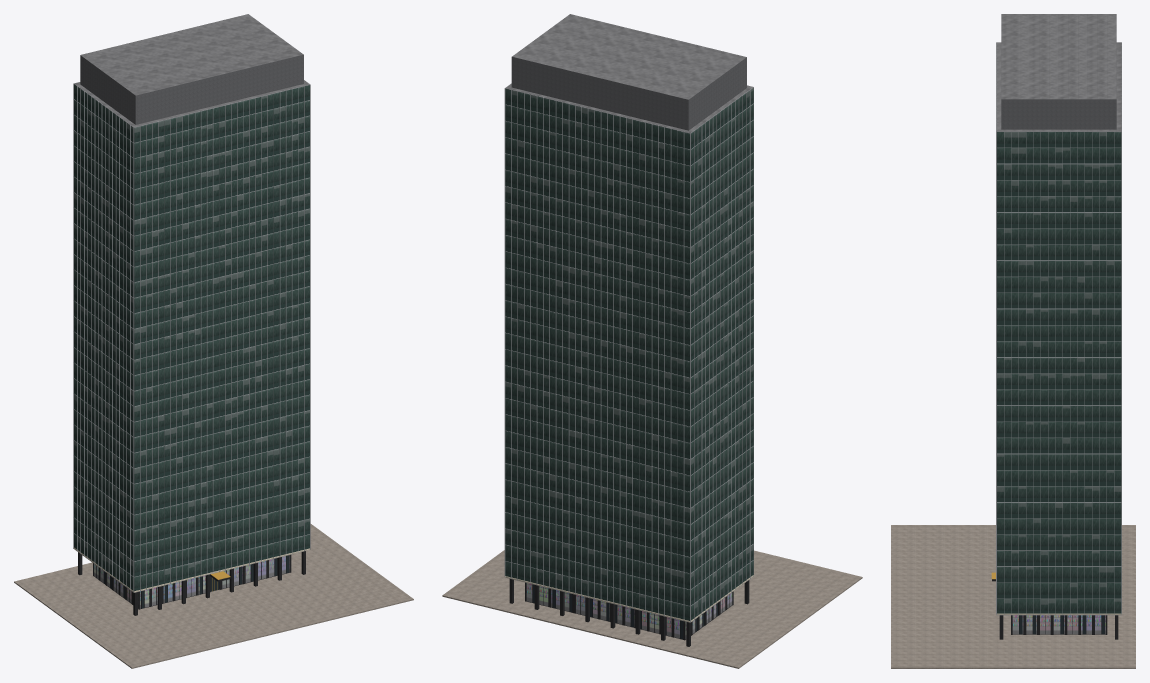
Rendered from hd16_international_style_slab.gltf.
3 views of the same model, side by side, from view 1: azimuth 30°, elevation 25°; view 2: azimuth 150°, elevation 25°; view 3: azimuth 270°, elevation 25° (orthographic). The views are drawn at different scales.
Visible parts, largest first — view 1: hd16_international_style_slab_LOD0; view 2: hd16_international_style_slab_LOD0; view 3: hd16_international_style_slab_LOD0.
Part boxes in pixels (left/top/right/bottom): hd16_international_style_slab_LOD0: left=14, top=14, right=413, bottom=668; hd16_international_style_slab_LOD0: left=442, top=14, right=862, bottom=668; hd16_international_style_slab_LOD0: left=891, top=14, right=1135, bottom=668.
Size of what is drawn, in the model's own units: 70.4 by 124 by 51.
Materials: 12 (7 with a texture image).
